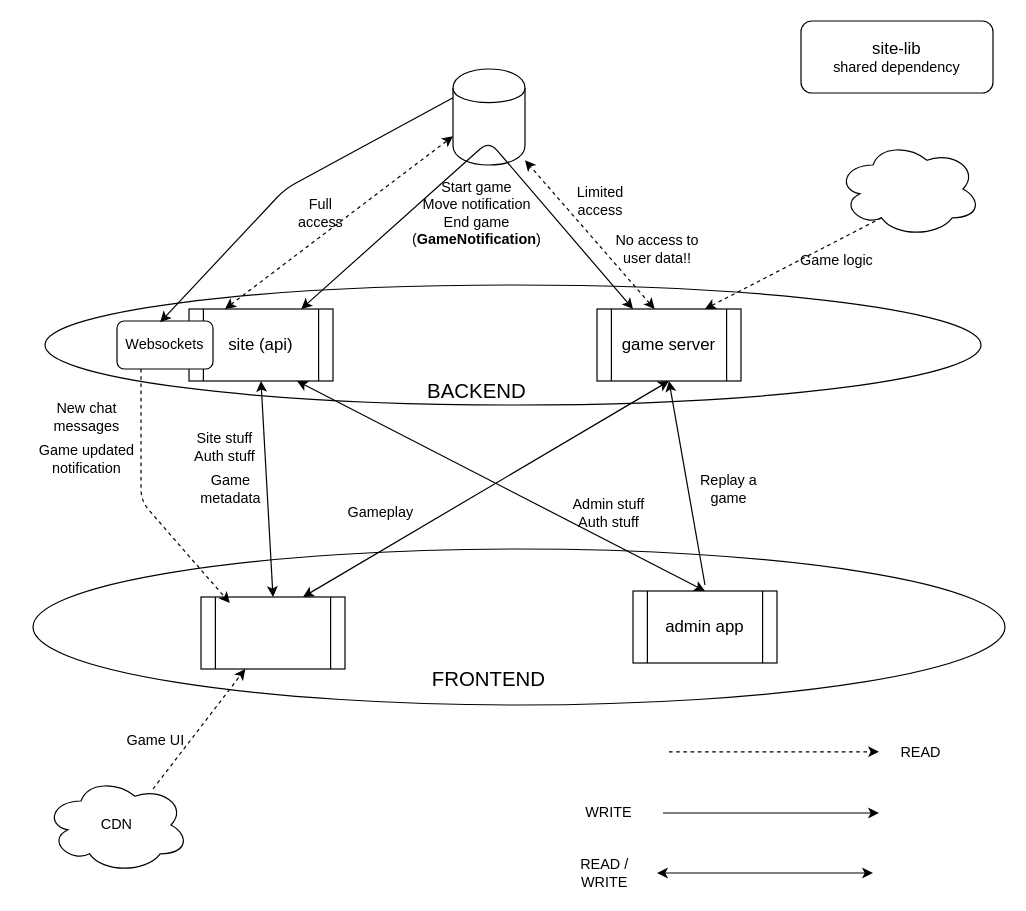
Image size: 1026x911. Some labels were removed from this diagram. Each missing label, with the centre of its shape:
"DB" belongs at (x=488, y=116).
"NPM" belongs at (x=908, y=188).
"web app" belongs at (x=272, y=632).
